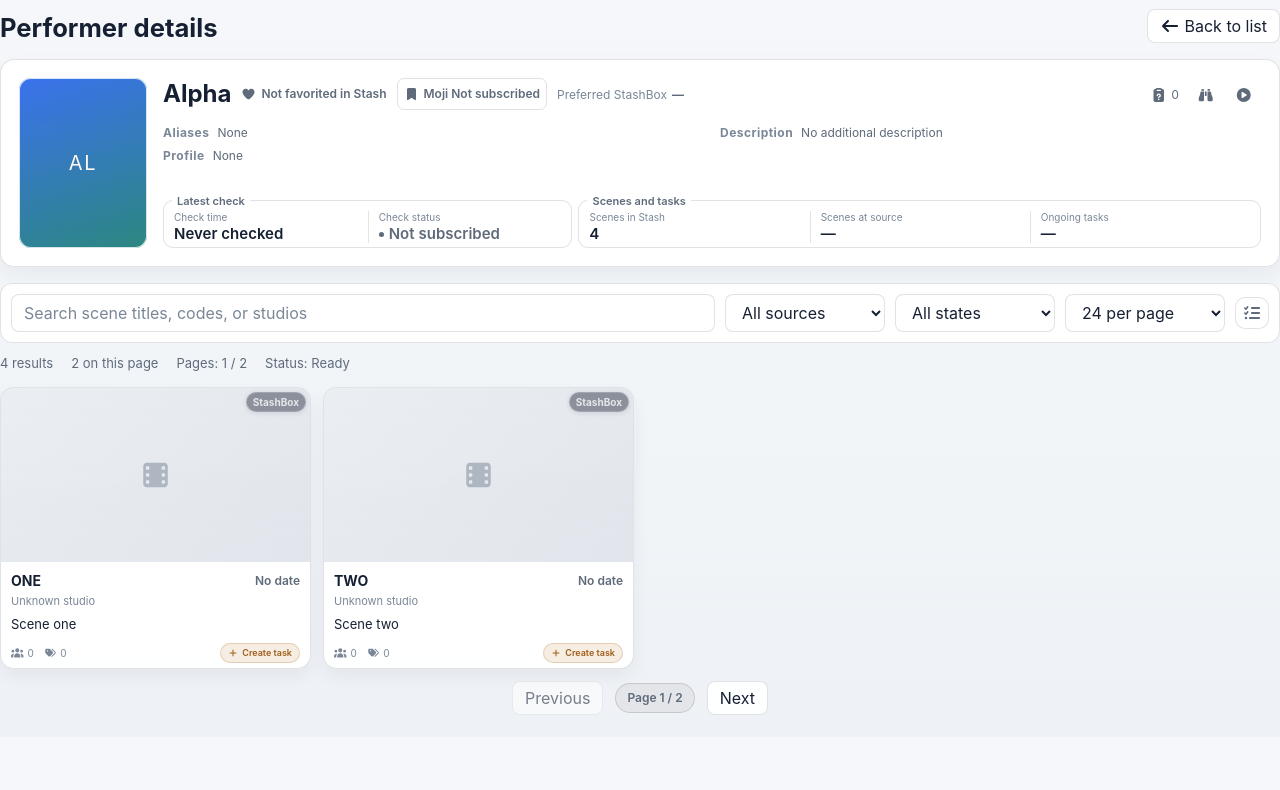
PerformersRoute mutation integration › submits both pages through the route mutation and clears only queued scenes
The width and height of the screenshot is (1280, 790).
Click the button named "Select scenes": [1252, 313] box left=1235, top=297, right=1269, bottom=329
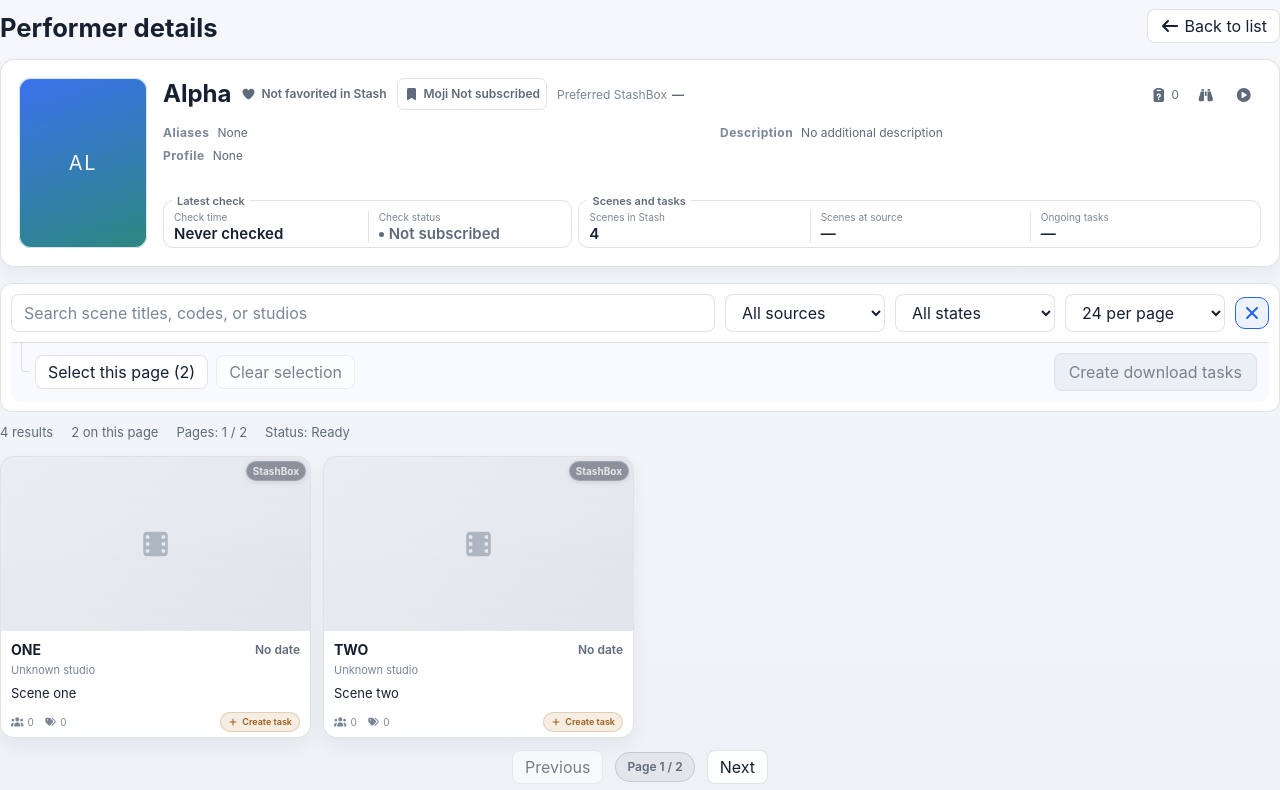
Click the button "Select this page (2)": [122, 372] box left=35, top=355, right=208, bottom=389
(page scrolled)
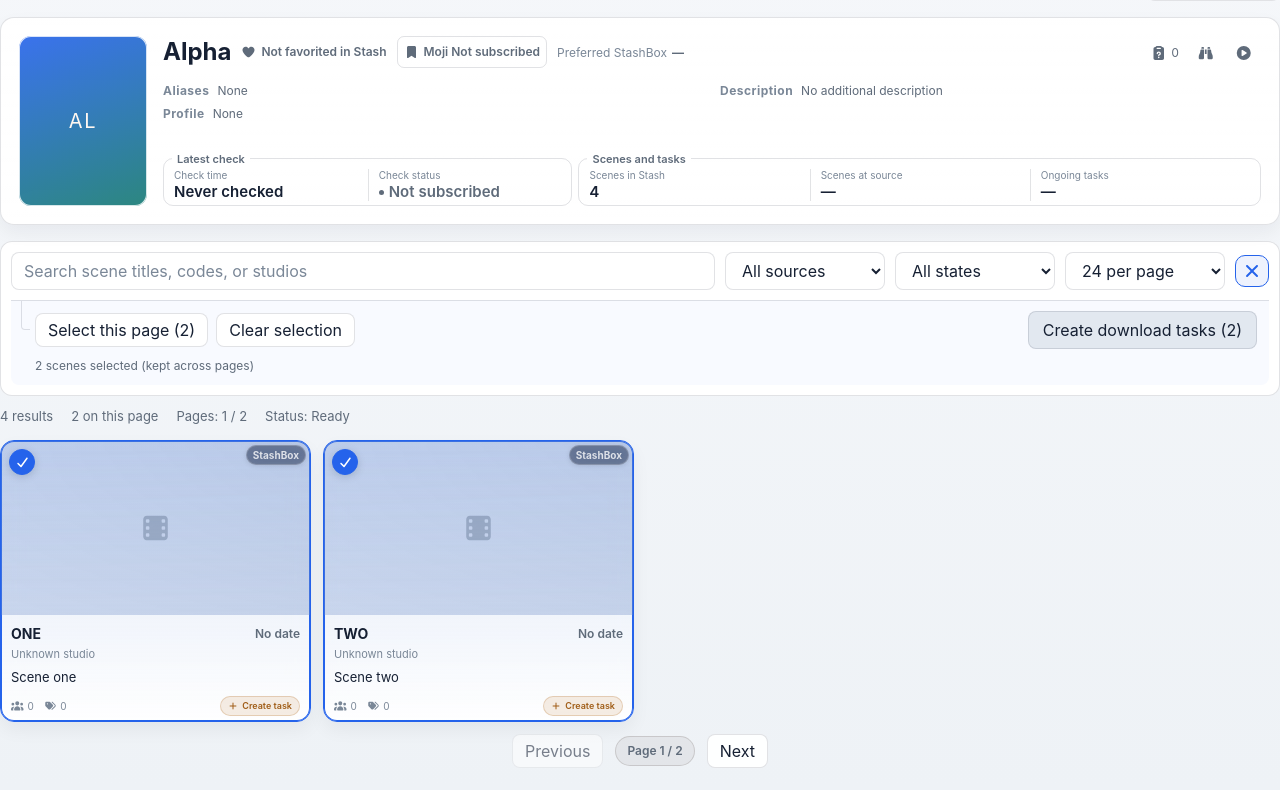
Expected: the button "Create download tasks (2)" is shown, left=1028, top=311, right=1257, bottom=349
Click the button "Next": [737, 751] box left=707, top=734, right=768, bottom=768
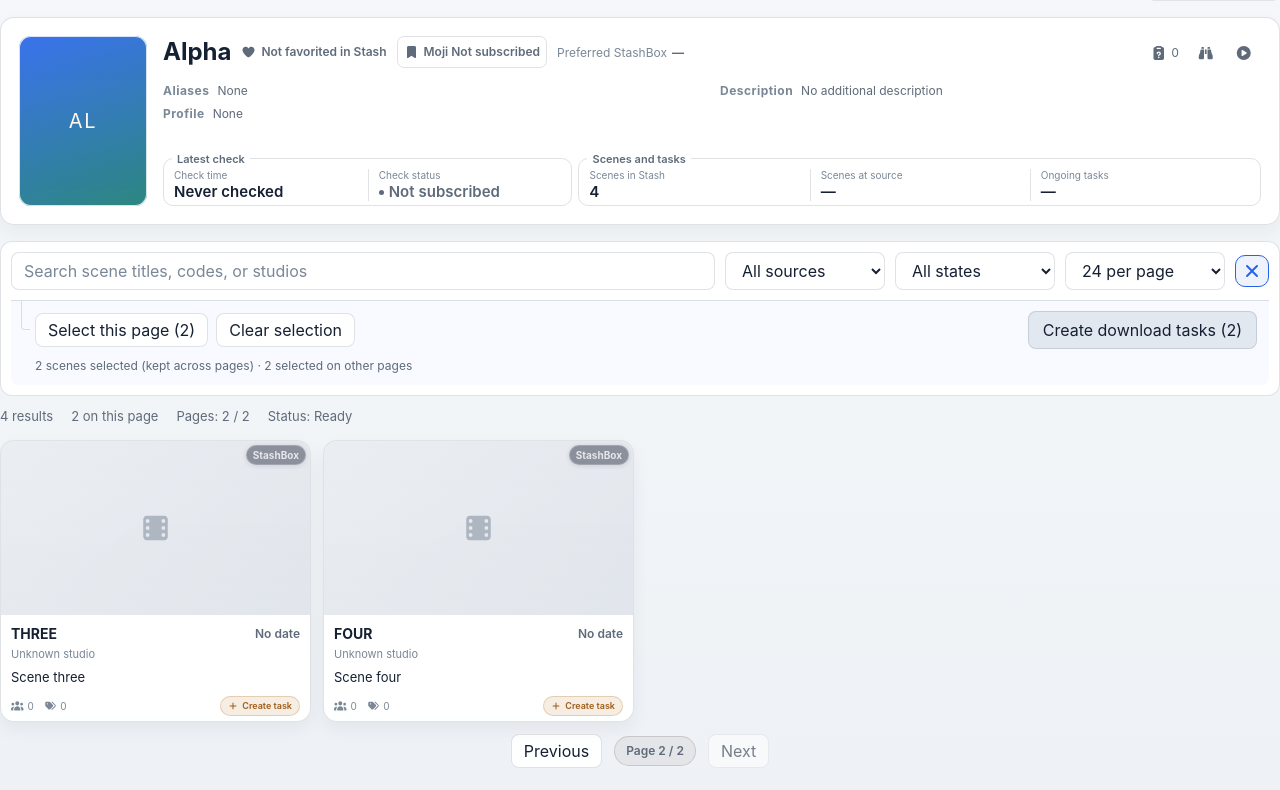
Expected: the button "Select this page (2)" is shown
Click the button "Select this page (2)": [122, 330] box left=35, top=313, right=208, bottom=347
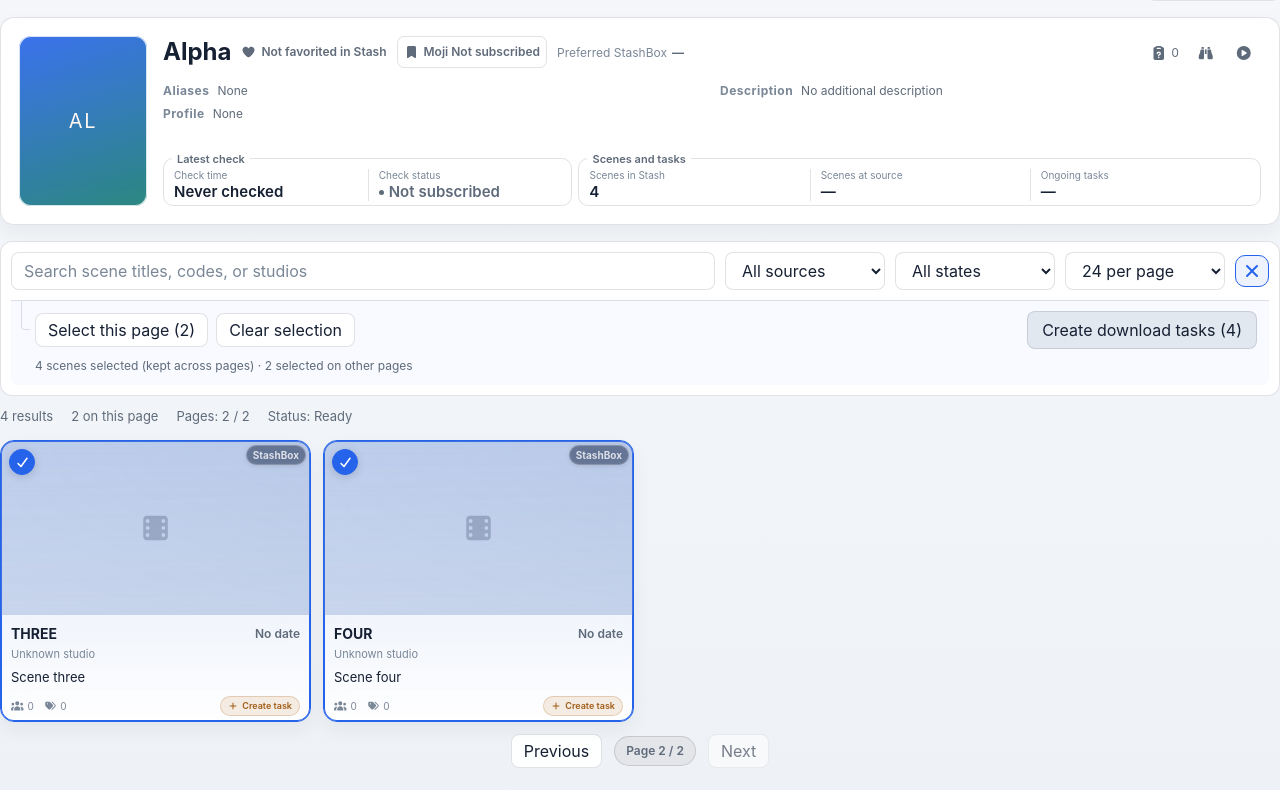
Click the button "Create download tasks (4)": [1142, 330] box left=1027, top=311, right=1257, bottom=349
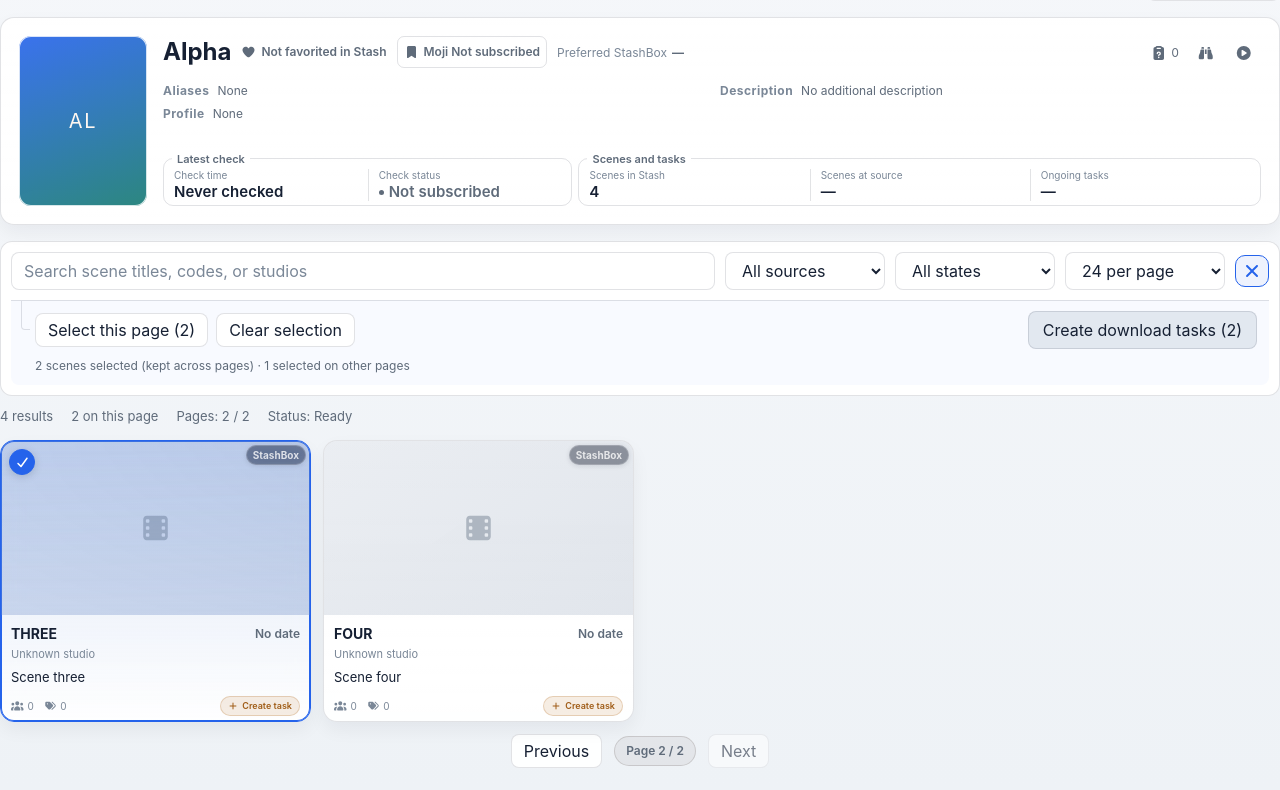
Expected: the button "Create download tasks (2)" is shown, left=1028, top=311, right=1257, bottom=349
